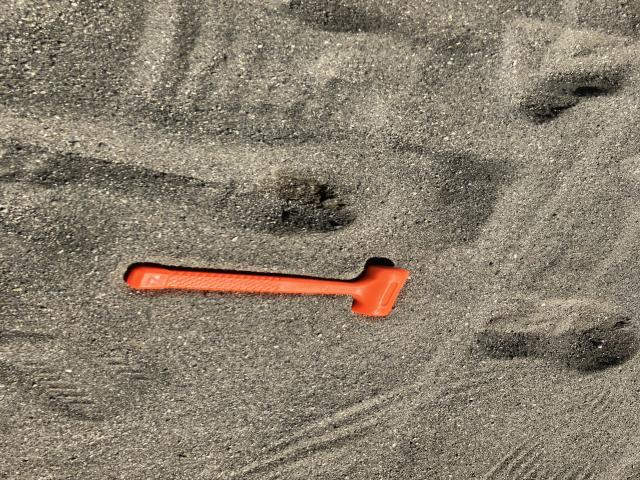hammer: (127, 264, 410, 317)
